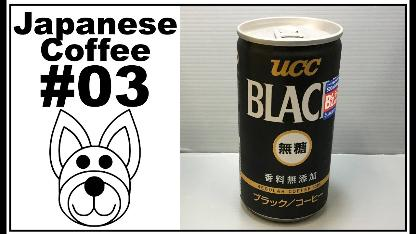Can: (237, 18, 342, 222)
